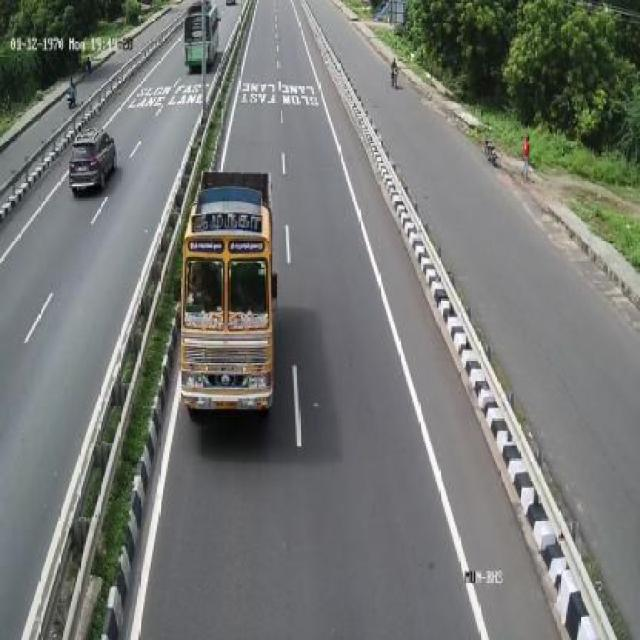car: (70, 121, 121, 202)
